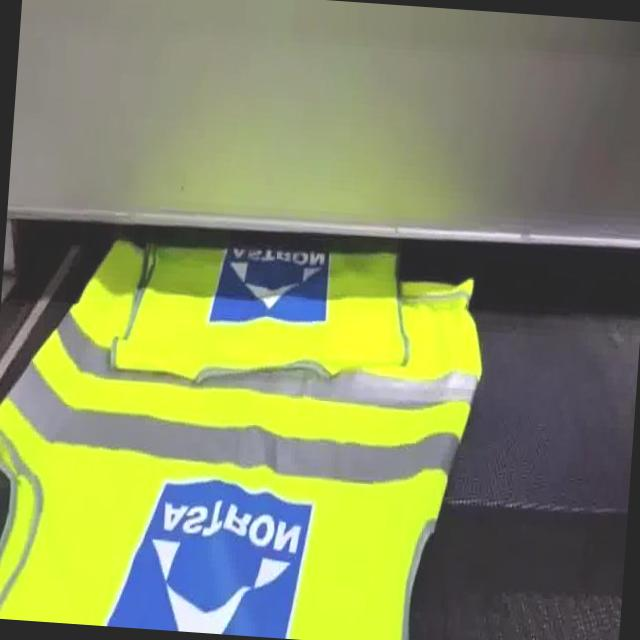vest: (0, 231, 491, 640)
